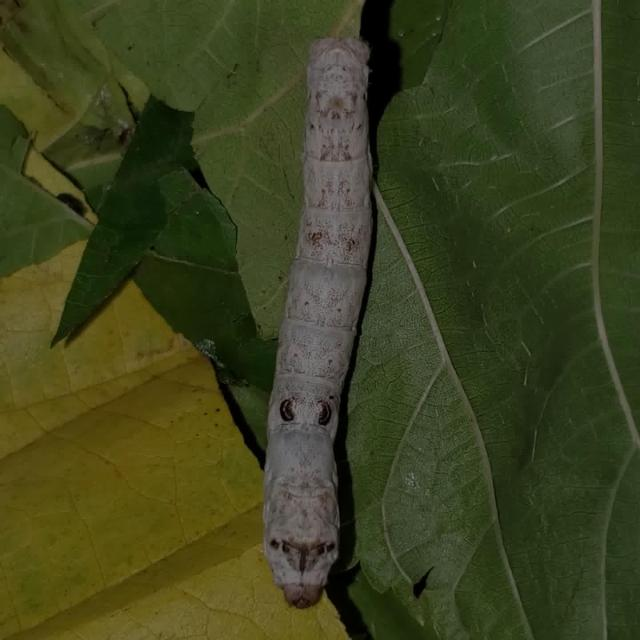Healthy: (243, 23, 390, 609)
